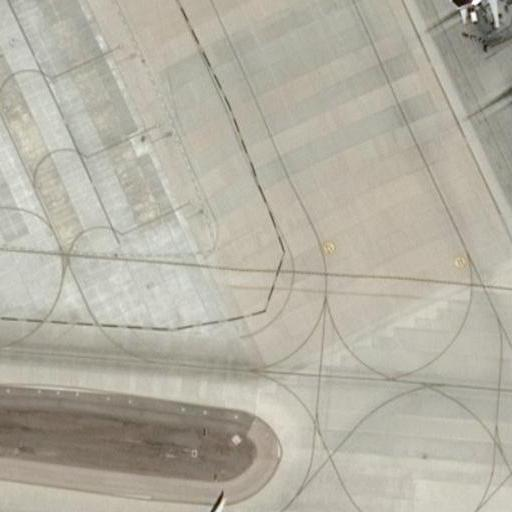Aircraft: (446, 0, 512, 29)
